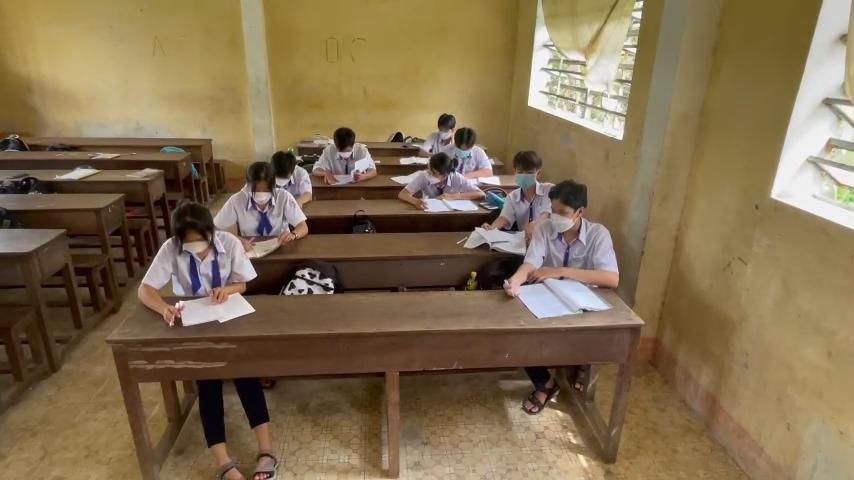Look Around: (532, 172, 594, 240), (419, 148, 461, 189)
